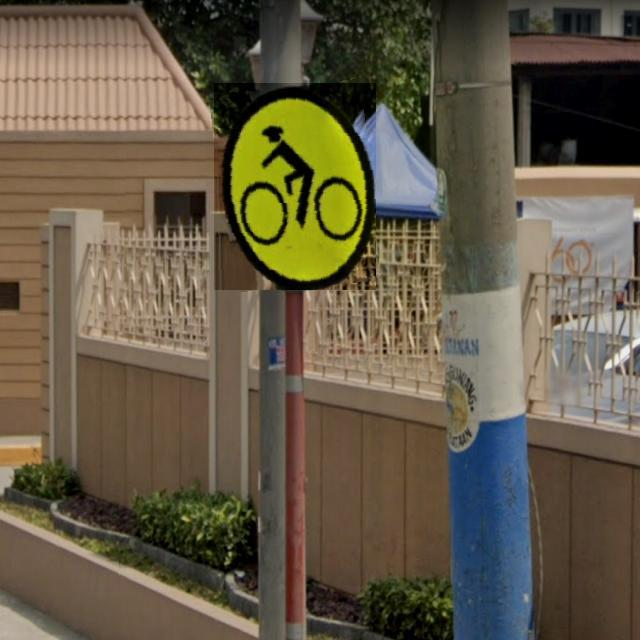bike lane: (214, 83, 376, 290)
